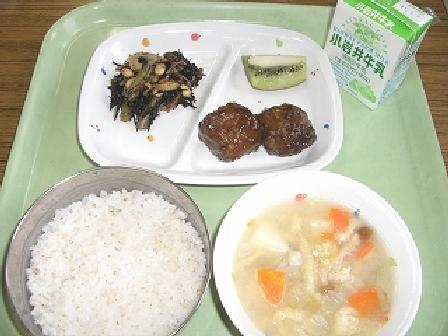Milk: (318, 4, 440, 94)
Rice: (8, 160, 214, 333)
Soups: (215, 177, 414, 331)
cutlet: (202, 94, 314, 166)
kiwi: (239, 41, 315, 92)
salad with sauce: (104, 41, 197, 124)
